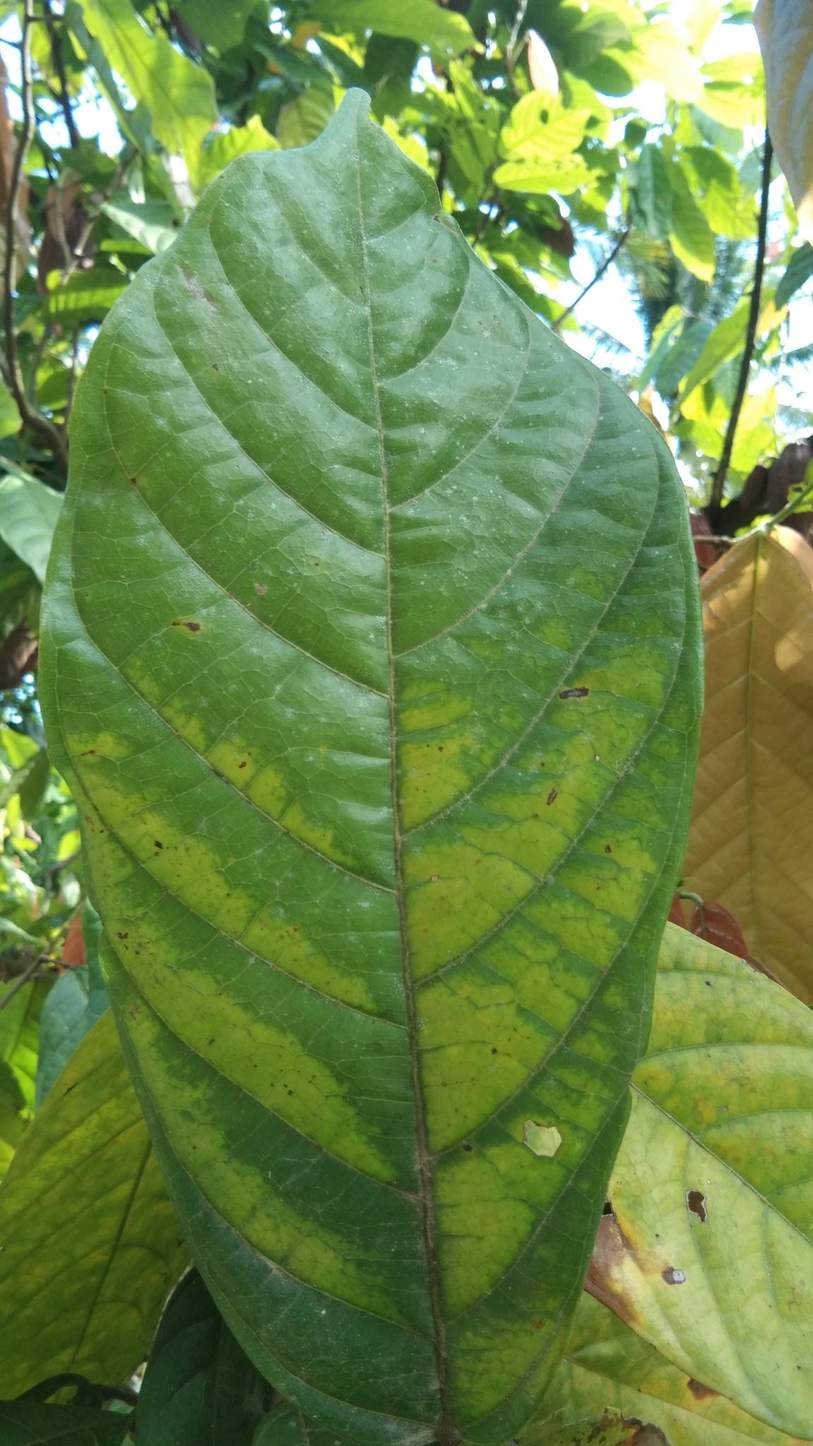Fosforo: (42, 101, 684, 1446)
